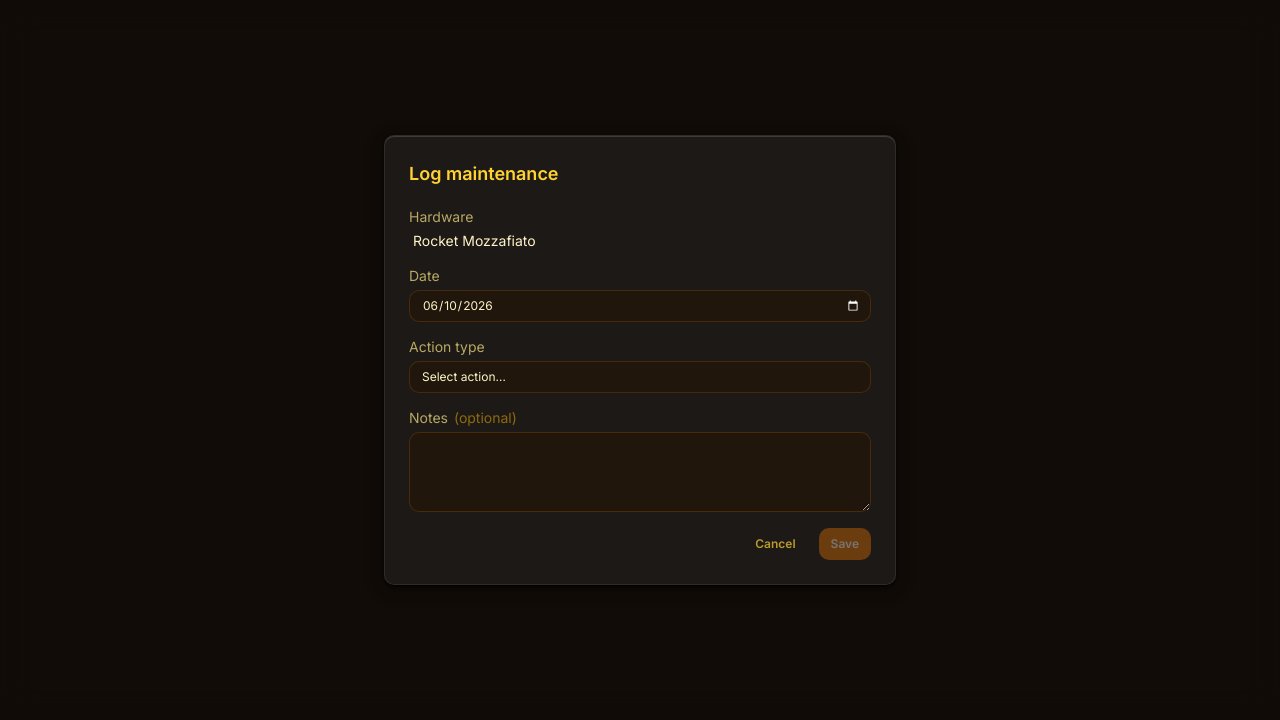
LogMaintenanceModal › future date input disables Save and shows the future-date warning message
Note: Select an action type first
Select "Backflush" in the dropdown at (640,377), box [409,361,871,393]
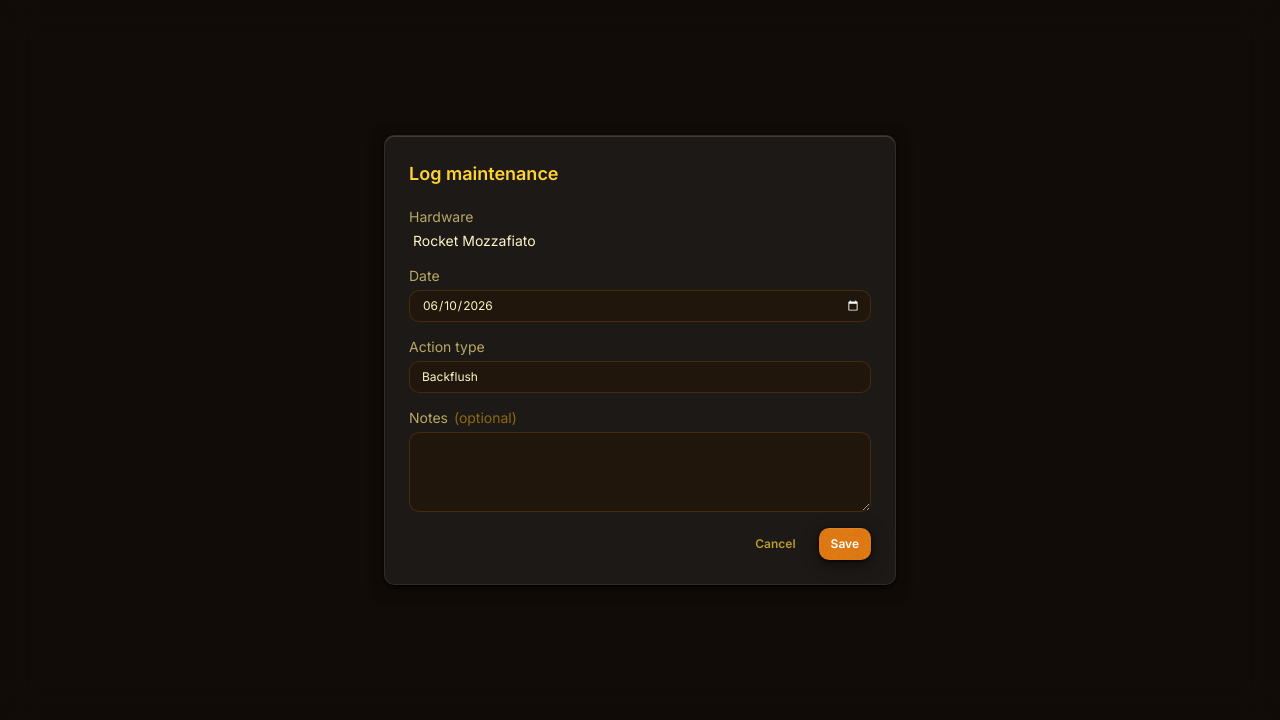
Note: Set a future date (year 9999)
Type "9999-12-31" into the date field at (640,306), box [409,290,871,322]
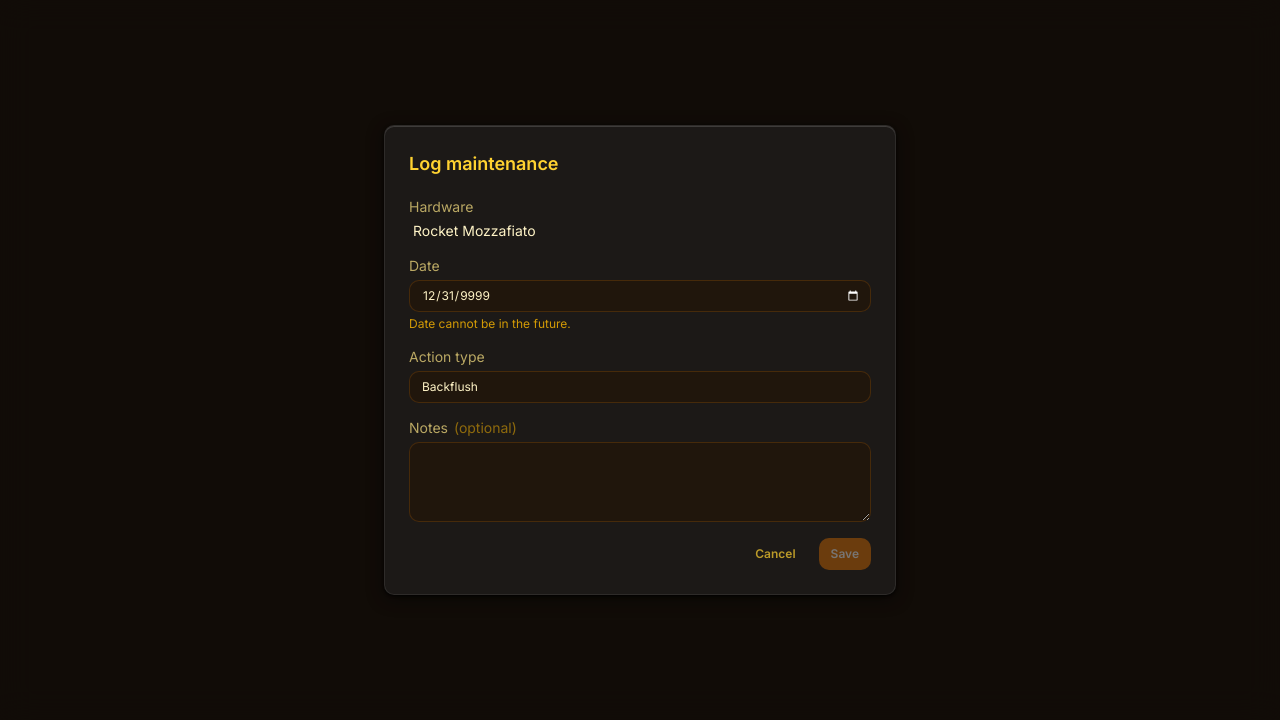
Result: the text "Date cannot be in the future." is shown at [409,316,571,331]
Result: the button "Save" is disabled at [819,538,871,570]
